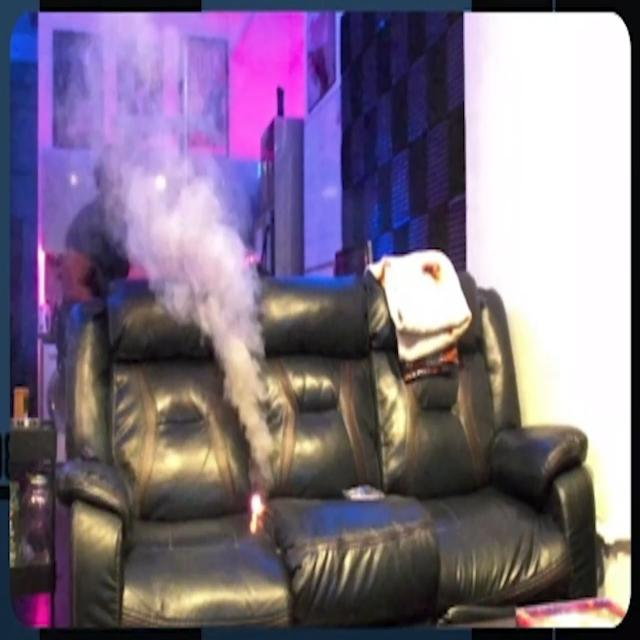Fire: (247, 491, 270, 532)
Smoke: (88, 20, 286, 468)
